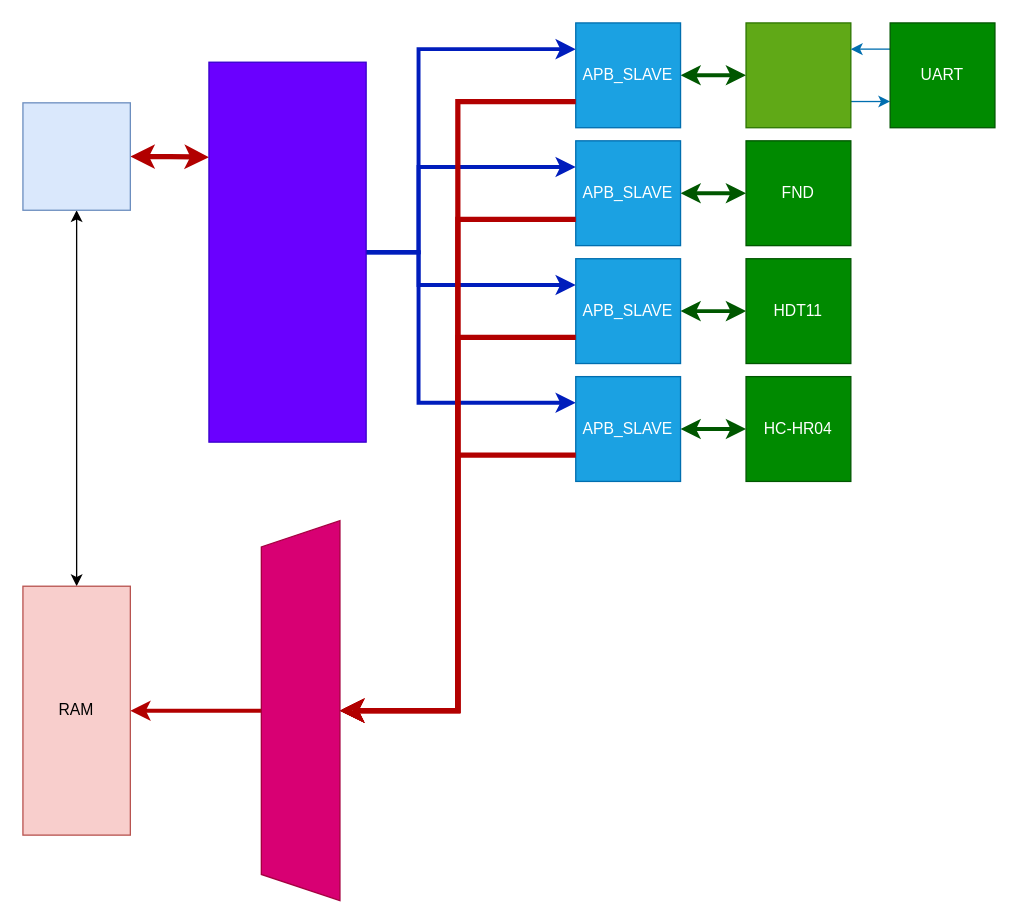
Image size: 1018x924. Some labels were removed from this diagram. Each missing label, with the centre of its shape:
APB MUX: (x=300, y=710)
APB_MASTER: (x=287, y=251)
CPU: (x=76, y=156)
IOBUFF (FIFO): (x=798, y=75)
